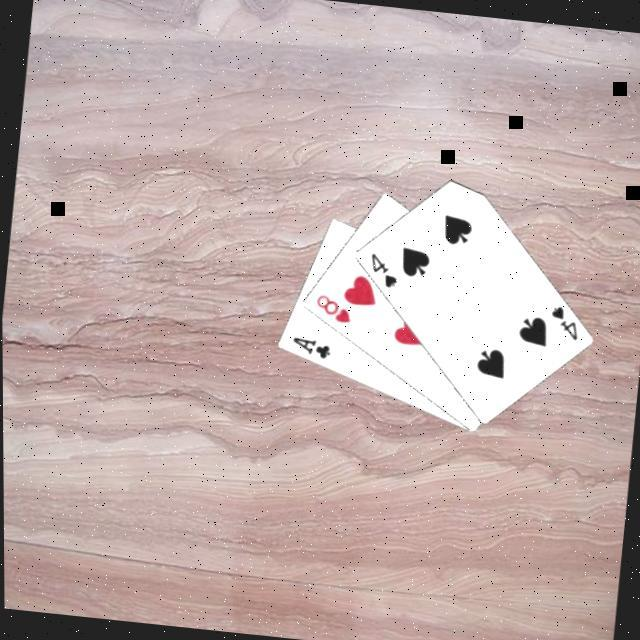4S: (542, 299, 581, 341), (361, 247, 399, 289)
8H: (307, 288, 352, 324)
AC: (285, 331, 331, 359)
